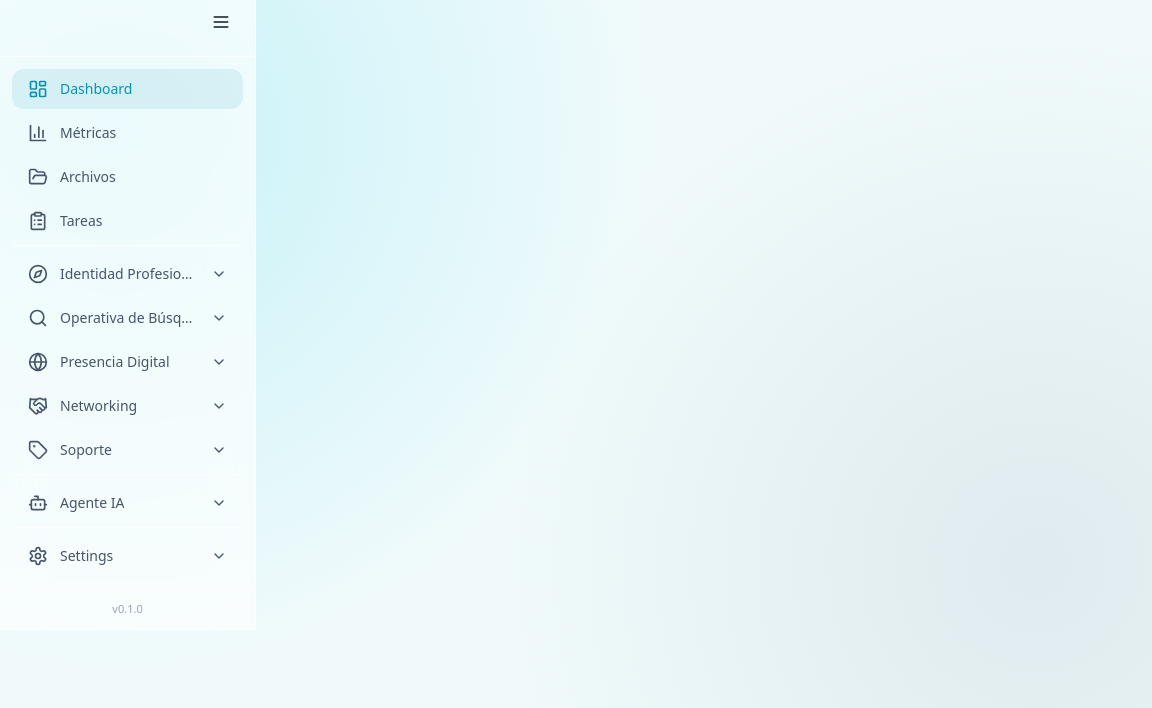
Test case: Sidebar › career domain sections › should collapse the previously expanded domain when a different one is opened (at most one at a time)
The width and height of the screenshot is (1152, 708).
Click the button "Operativa de Búsqueda".
click(128, 318)  # box [12,298,243,338]
(page scrolled)
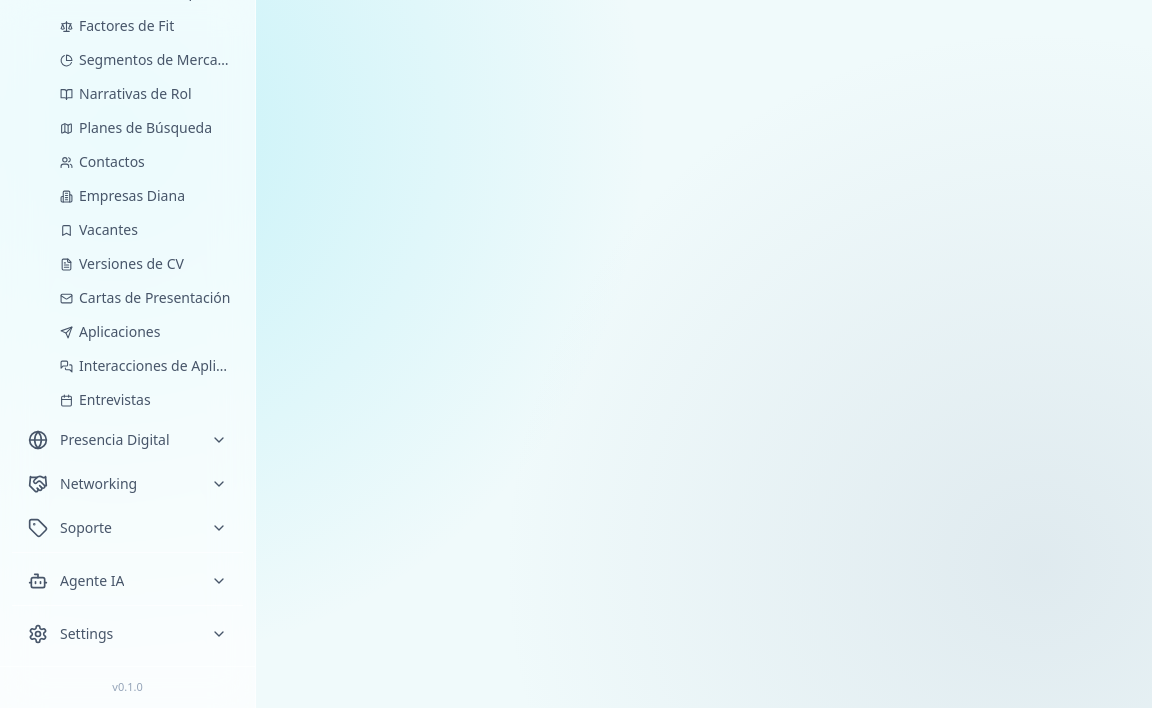
Expected: the text "Vacantes" is shown, [79,220,138,239]
Click the button "Presencia Digital".
click(128, 440)  # box [12,420,243,460]
(page scrolled)
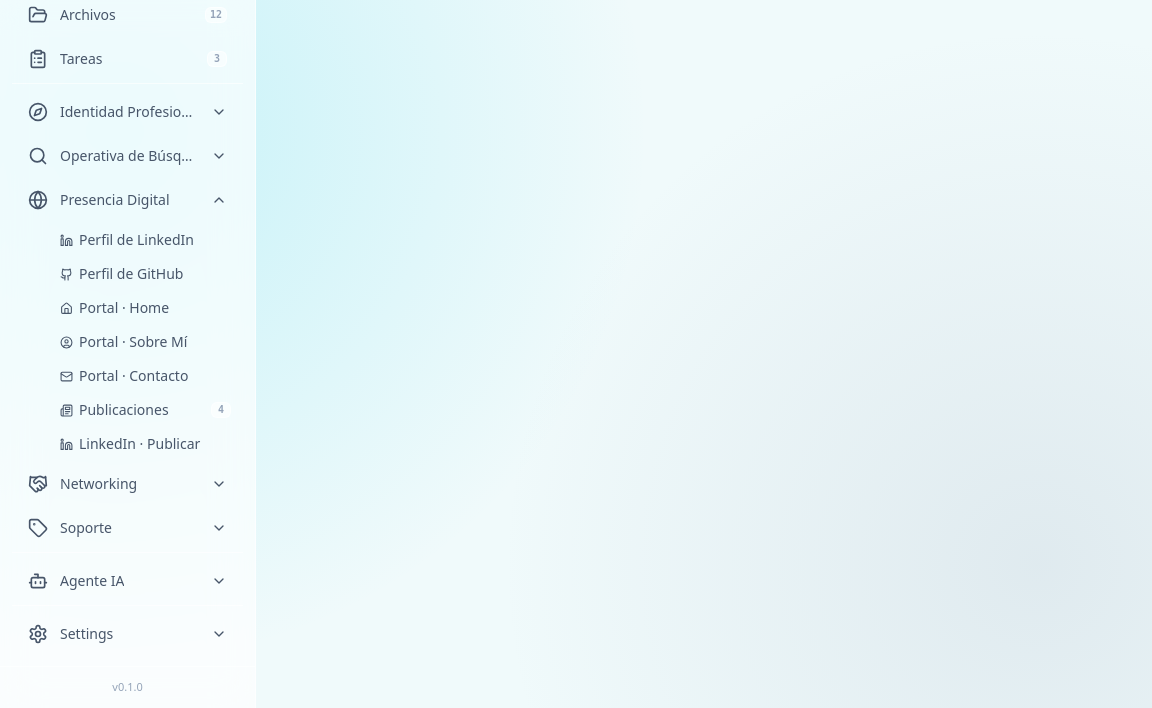
Expected: the link "Vacantes" is gone
Expected: the text "Publicaciones" is shown, [79,400,169,419]
